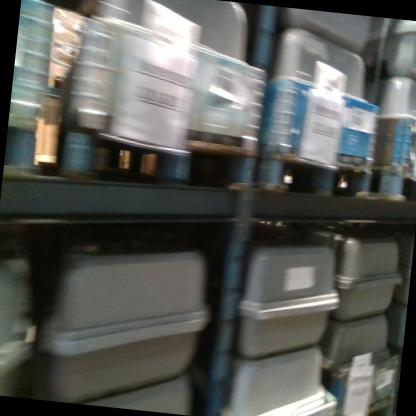pallet: (56, 108, 261, 198), (255, 142, 375, 199), (2, 114, 40, 178), (371, 157, 416, 205), (333, 383, 396, 416), (46, 73, 65, 92)
